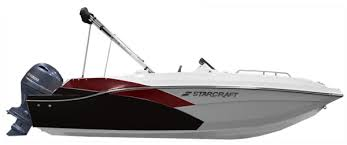boat: (5, 6, 343, 140)
